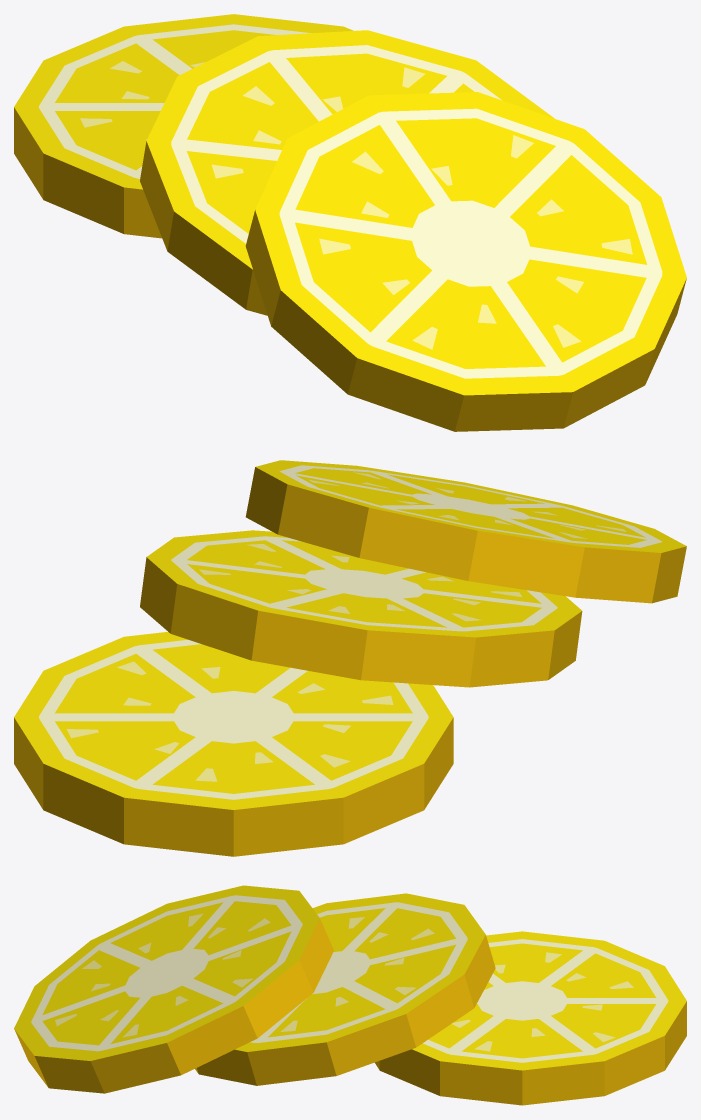
The model's file is Lemon Slice.fbx.
3 views of the same model, one above another, from view 1: azimuth 30°, elevation 25°; view 2: azimuth 150°, elevation 25°; view 3: azimuth 270°, elevation 25° (orthographic). The views are drawn at different scales.
Visible parts, largest first — view 1: Lemon Slice.002, Lemon Slice.001, Lemon Slice; view 2: Lemon Slice, Lemon Slice.001, Lemon Slice.002; view 3: Lemon Slice.002, Lemon Slice, Lemon Slice.001.
Boxes of the visible parts, box(x1,y1,x2,y2) form: Lemon Slice.002: box(245, 92, 686, 431); Lemon Slice.001: box(140, 30, 554, 315); Lemon Slice: box(14, 14, 353, 238); Lemon Slice: box(14, 632, 453, 856); Lemon Slice.001: box(140, 530, 582, 687); Lemon Slice.002: box(245, 460, 686, 603); Lemon Slice.002: box(14, 885, 333, 1093); Lemon Slice: box(374, 931, 686, 1105); Lemon Slice.001: box(195, 893, 495, 1085).
Size of the model in its own units: 11.15 by 5.34 by 22.8.
